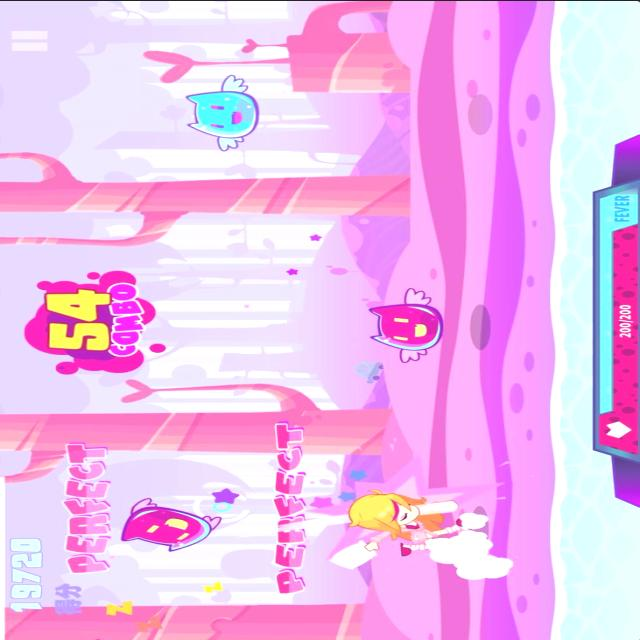mao: (362, 286, 448, 364), (182, 72, 261, 152), (114, 498, 226, 554)
